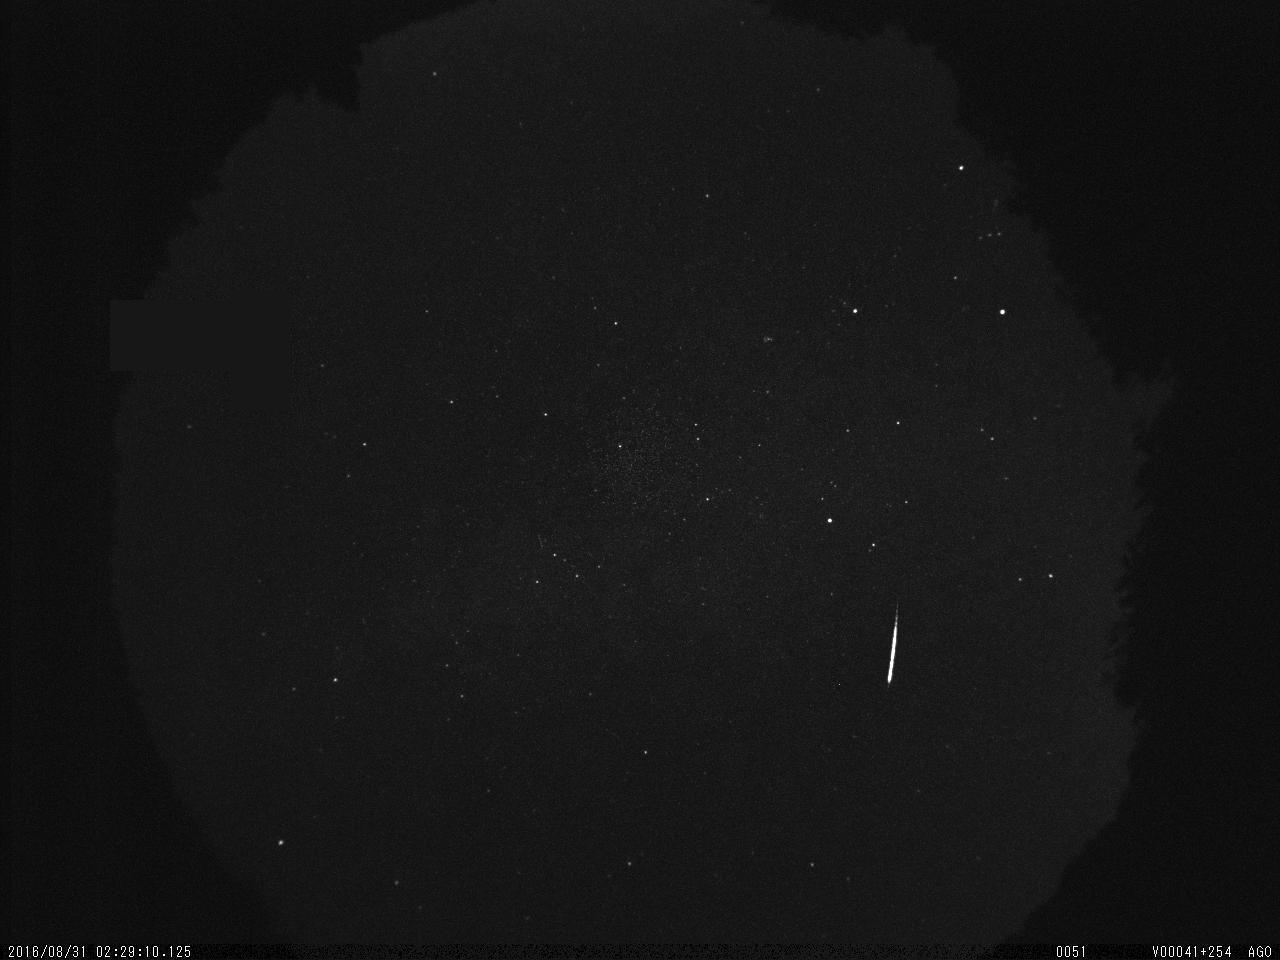Meteor: (882, 603, 900, 683)
